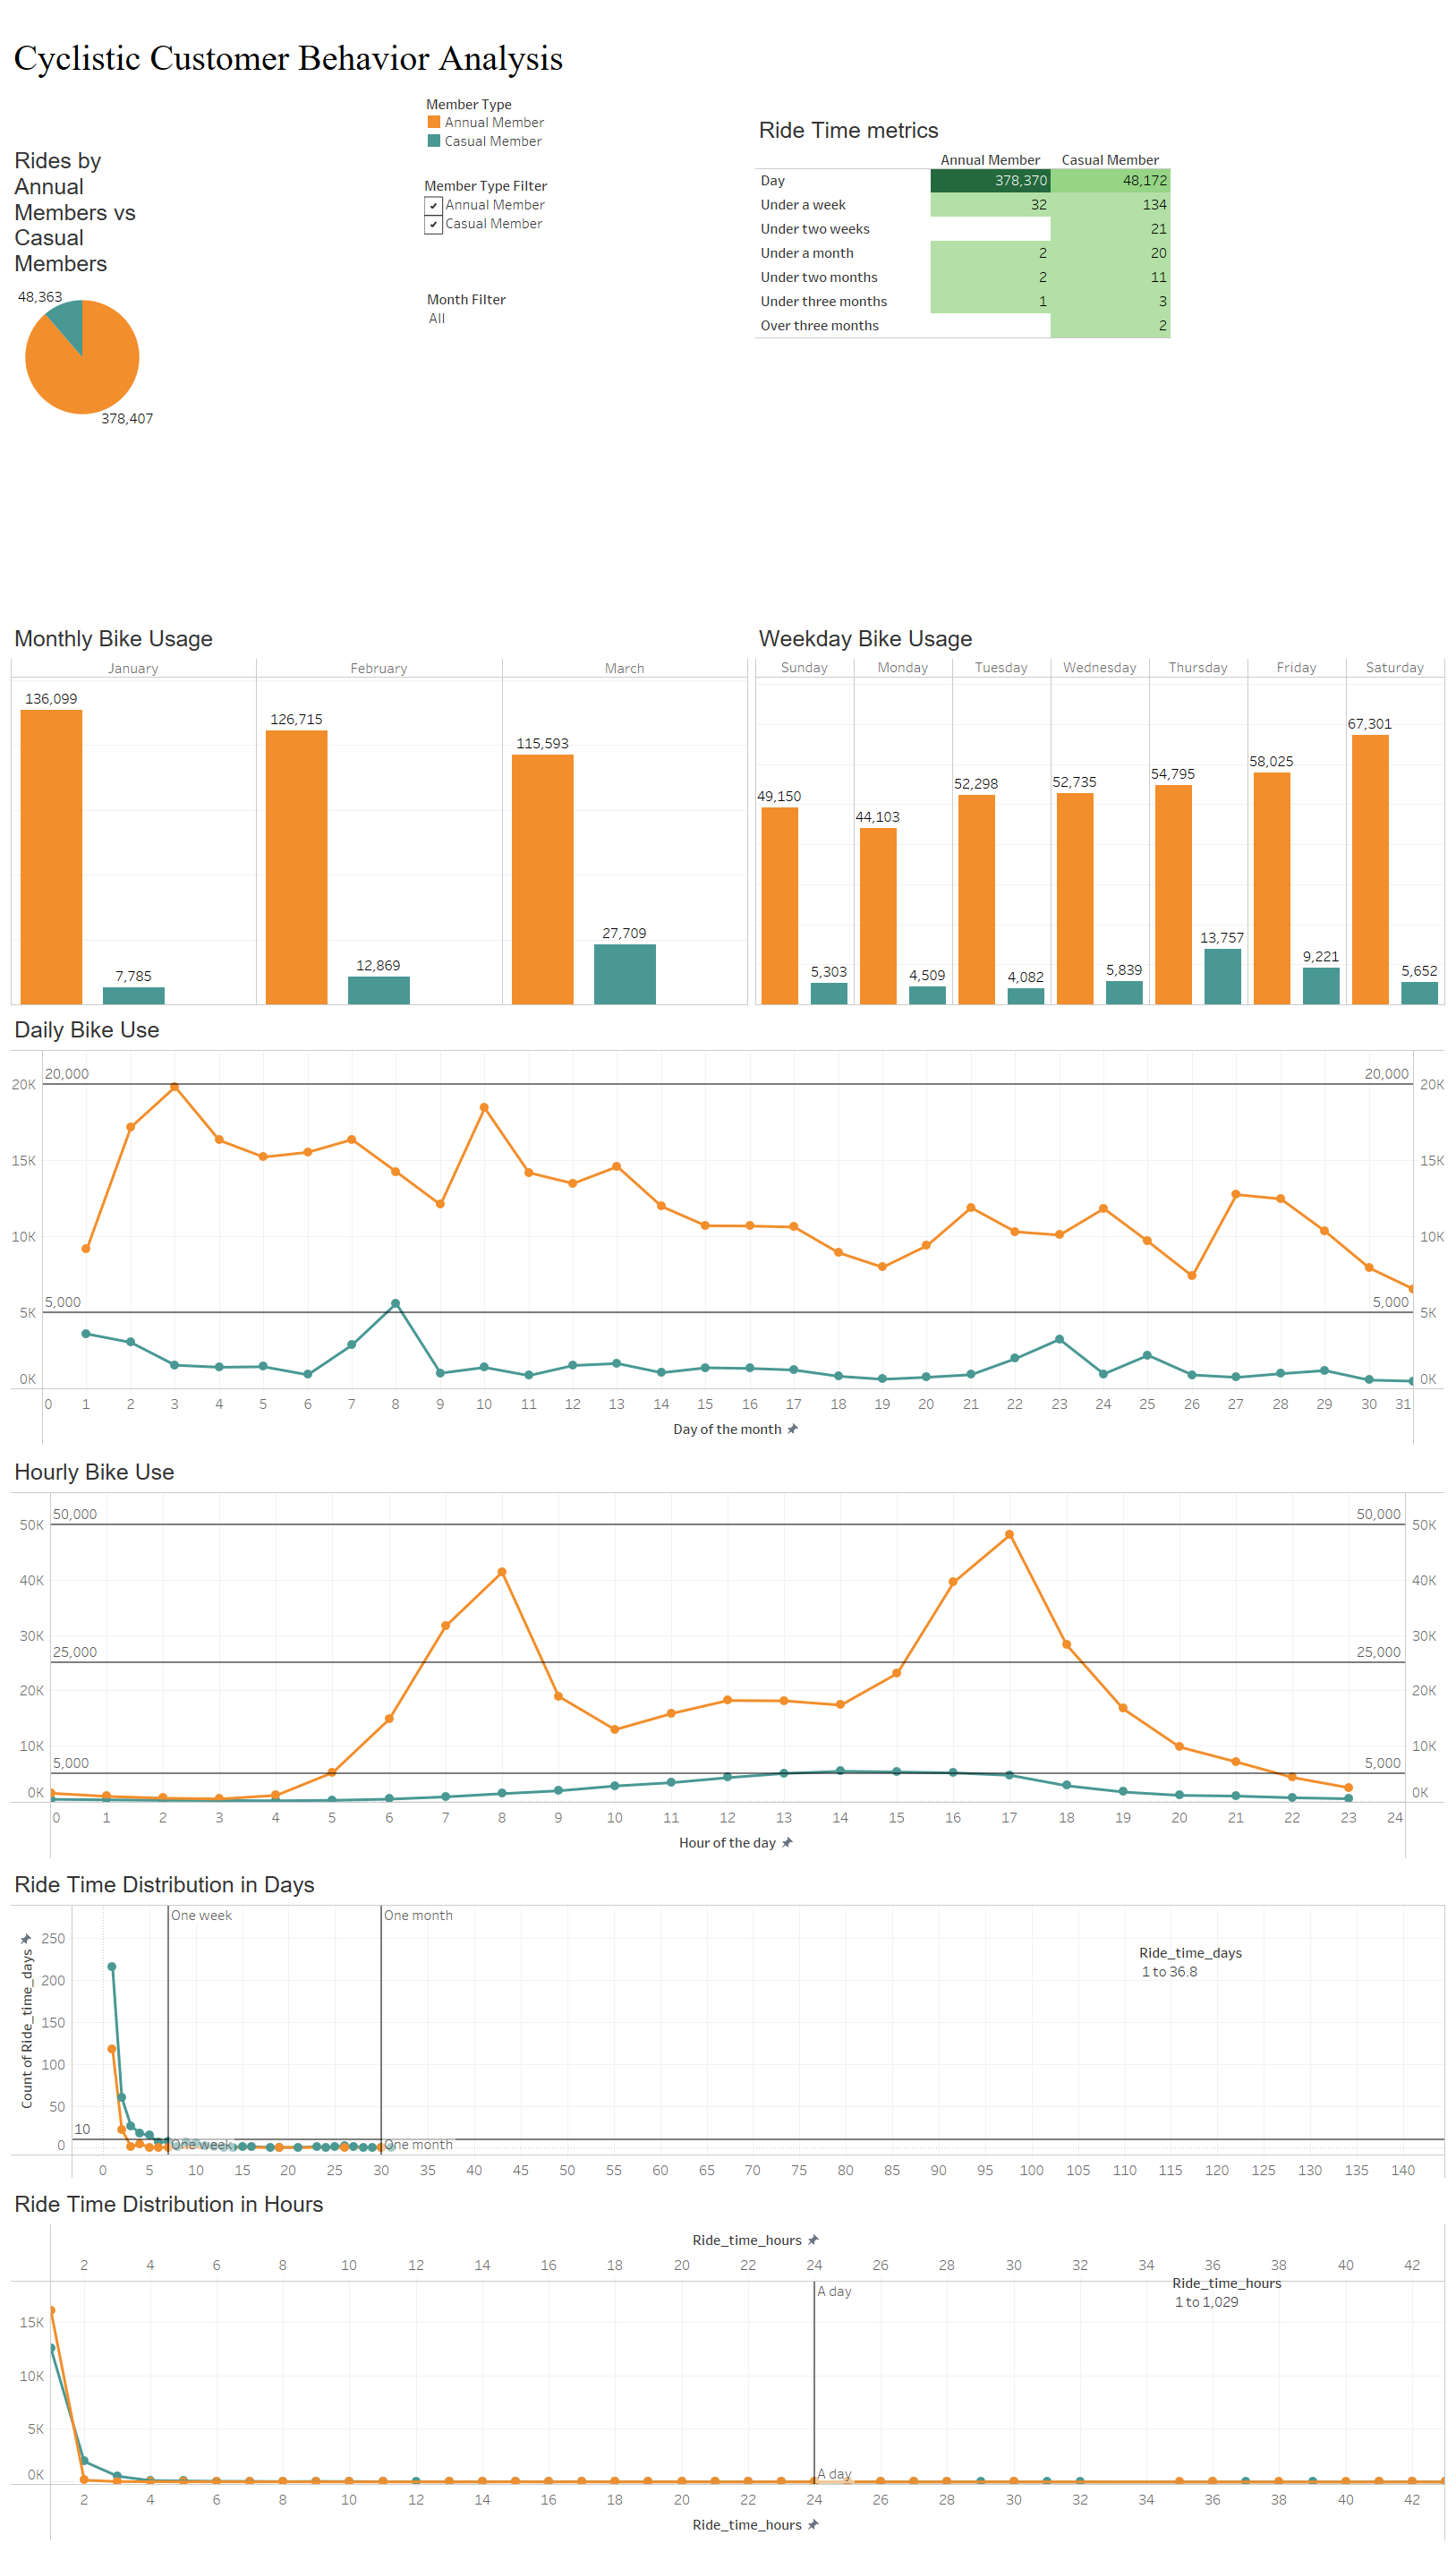

The dashboard page shown, as its layout file describes it:
{"tool":"tableau","page":{"name":"Bike Usage Differences","canvas":[1727,3251],"ordinal":1},"visuals":[{"type":"text","box":[8,8,1711,128.9]},{"type":"legend","title":"Weekday Breakdown","param":"[federated.05lkien0bgtq401brrokx1wuom4p].[none:member_casual:nk]","box":[504.4,118.6,194.9,87.8]},{"type":"worksheet","title":"Total Bike Rides","mark":"Pie","box":[8,136.9,883.7,411.1]},{"type":"worksheet","title":"Ride Time Metrics","mark":"Square","cols":["member_casual"],"box":[891.7,136.9,827.3,411.1]},{"type":"filter","title":"Monthly Bike Use","param":"[federated.05lkien0bgtq401brrokx1wuom4p].[none:member_casual:nk]","box":[503.4,223.5,191.8,136.8]},{"type":"filter","title":"Hourly Bike Use_","param":"[federated.05lkien0bgtq401brrokx1wuom4p].[none:Calculation_2179460753752875010:n","box":[506.5,368.3,192.8,240.6]},{"type":"worksheet","title":"Monthly Bike Use","mark":"Automatic","rows":["vtnone"],"cols":["Calculation_2179460753752875010","member_casual"],"box":[8,548,883.4,506]},{"type":"worksheet","title":"Weekday Breakdown","mark":"Automatic","rows":["Calculation_2179460753840189448"],"cols":["Calculation_2179460753840189448","member_casual"],"box":[891.4,548,827.6,506]},{"type":"worksheet","title":"Daily Bike Use","mark":"Automatic","rows":["started_day","started_day"],"cols":["started_day"],"box":[8,1054,1711,517]},{"type":"worksheet","title":"Hourly Bike Use_","mark":"Automatic","rows":["started_hour","started_hour"],"cols":["started_hour"],"box":[8,1571,1711,536]},{"type":"worksheet","title":"Ride Time Disribution in Days","mark":"Automatic","rows":["Calculation_2179460753785925637"],"cols":["Calculation_2179460753785925637","Calculation_2179460753785925637"],"box":[8,2107,1711,368]},{"type":"filter","title":"Ride Time Disribution in Days","param":"[federated.05lkien0bgtq401brrokx1wuom4p].[none:Calculation_2179460753785925637:q","box":[1321.5,2176,175.1,84]},{"type":"worksheet","title":"Ride Time Disribution in Hours","mark":"Circle","rows":["Calculation_2179460753785413636"],"cols":["Calculation_2179460753785413636","Calculation_2179460753785413636"],"box":[8,2475,1711,376]},{"type":"filter","title":"Ride Time Disribution in Hours","param":"[federated.05lkien0bgtq401brrokx1wuom4p].[attr:Calculation_2179460753785413636:q","box":[1435.1,2582,156,83]},{"type":"worksheet","title":"Ride Time Disribution in Minutes","mark":"Line","rows":["Calculation_2179460753784754179"],"cols":["Calculation_2179460753784754179","Calculation_2179460753784754179"],"box":[8,2851,1711,392]}]}

Visuals, with their boxes on the page's 1727x3251 design canvas (x1, y1, x2, y2). These are canvas units, not pixel positions in the 1456x2552 screenshot, which may show the page scaled, cropped or inside an application window:
text: [left=8, top=8, right=1719, bottom=137]
"Weekday Breakdown" legend: [left=504, top=119, right=699, bottom=206]
"Total Bike Rides" worksheet (Pie marks): [left=8, top=137, right=892, bottom=548]
"Ride Time Metrics" worksheet (Square marks): [left=892, top=137, right=1719, bottom=548]
"Monthly Bike Use" filter: [left=503, top=224, right=695, bottom=360]
"Hourly Bike Use_" filter: [left=506, top=368, right=699, bottom=609]
"Monthly Bike Use" worksheet: [left=8, top=548, right=891, bottom=1054]
"Weekday Breakdown" worksheet: [left=891, top=548, right=1719, bottom=1054]
"Daily Bike Use" worksheet: [left=8, top=1054, right=1719, bottom=1571]
"Hourly Bike Use_" worksheet: [left=8, top=1571, right=1719, bottom=2107]
"Ride Time Disribution in Days" worksheet: [left=8, top=2107, right=1719, bottom=2475]
"Ride Time Disribution in Days" filter: [left=1322, top=2176, right=1497, bottom=2260]
"Ride Time Disribution in Hours" worksheet (Circle marks): [left=8, top=2475, right=1719, bottom=2851]
"Ride Time Disribution in Hours" filter: [left=1435, top=2582, right=1591, bottom=2665]
"Ride Time Disribution in Minutes" worksheet (Line marks): [left=8, top=2851, right=1719, bottom=3243]
